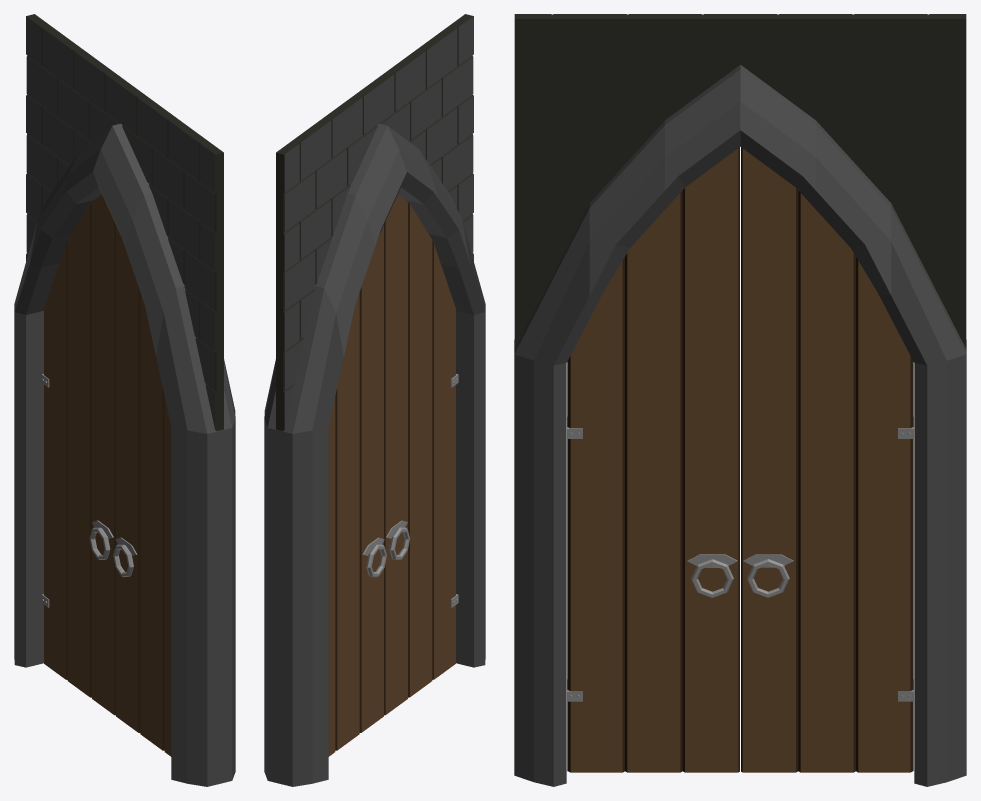
Rendered from Double door_001.fbx.
3 views of the same model, side by side, from view 1: azimuth 30°, elevation 25°; view 2: azimuth 150°, elevation 25°; view 3: azimuth 270°, elevation 25° (orthographic). The views are drawn at different scales.
Parts seen in each view (by area): view 1: doubledoor_001, double door wing1, double door wing2; view 2: doubledoor_001, double door wing2, double door wing1; view 3: doubledoor_001, double door wing2, double door wing1.
Part boxes in pixels (x1,y1,x2,y2): doubledoor_001: (14,14,235,786); double door wing1: (41,194,115,715); double door wing2: (113,225,171,756); doubledoor_001: (264,14,485,786); double door wing2: (384,194,458,715); double door wing1: (328,225,386,756); doubledoor_001: (514,14,966,786); double door wing2: (567,147,739,772); double door wing1: (741,147,913,772).
Bounding box in the file's own units: 78.2 × 735 × 400.
